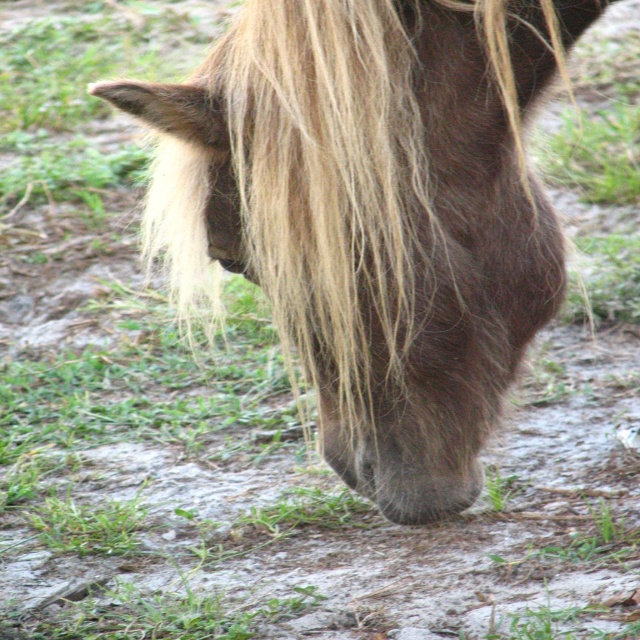Horse: (86, 1, 628, 523)
